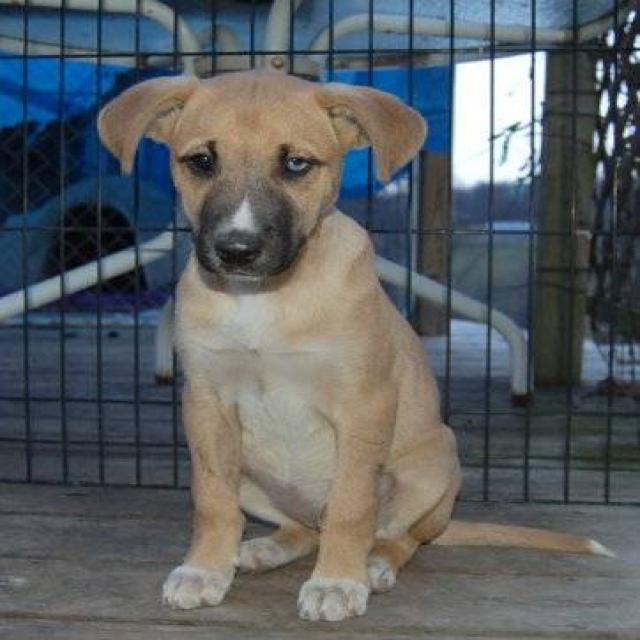dogs: (92, 41, 586, 639)
